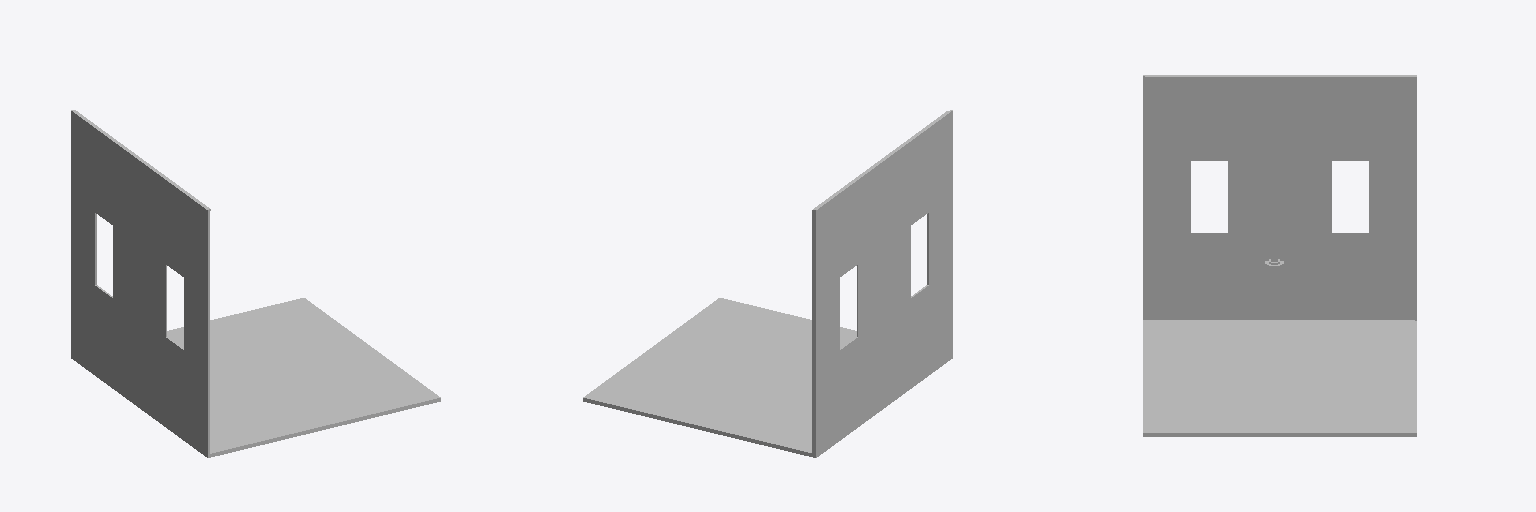
Rendered from room_mid_1.obj.
3 renders of one model, left to right at view 1: azimuth 30°, elevation 25°; view 2: azimuth 150°, elevation 25°; view 3: azimuth 270°, elevation 25°, orthographic.
Bounding box in the file's own units: 124 × 126 × 126.